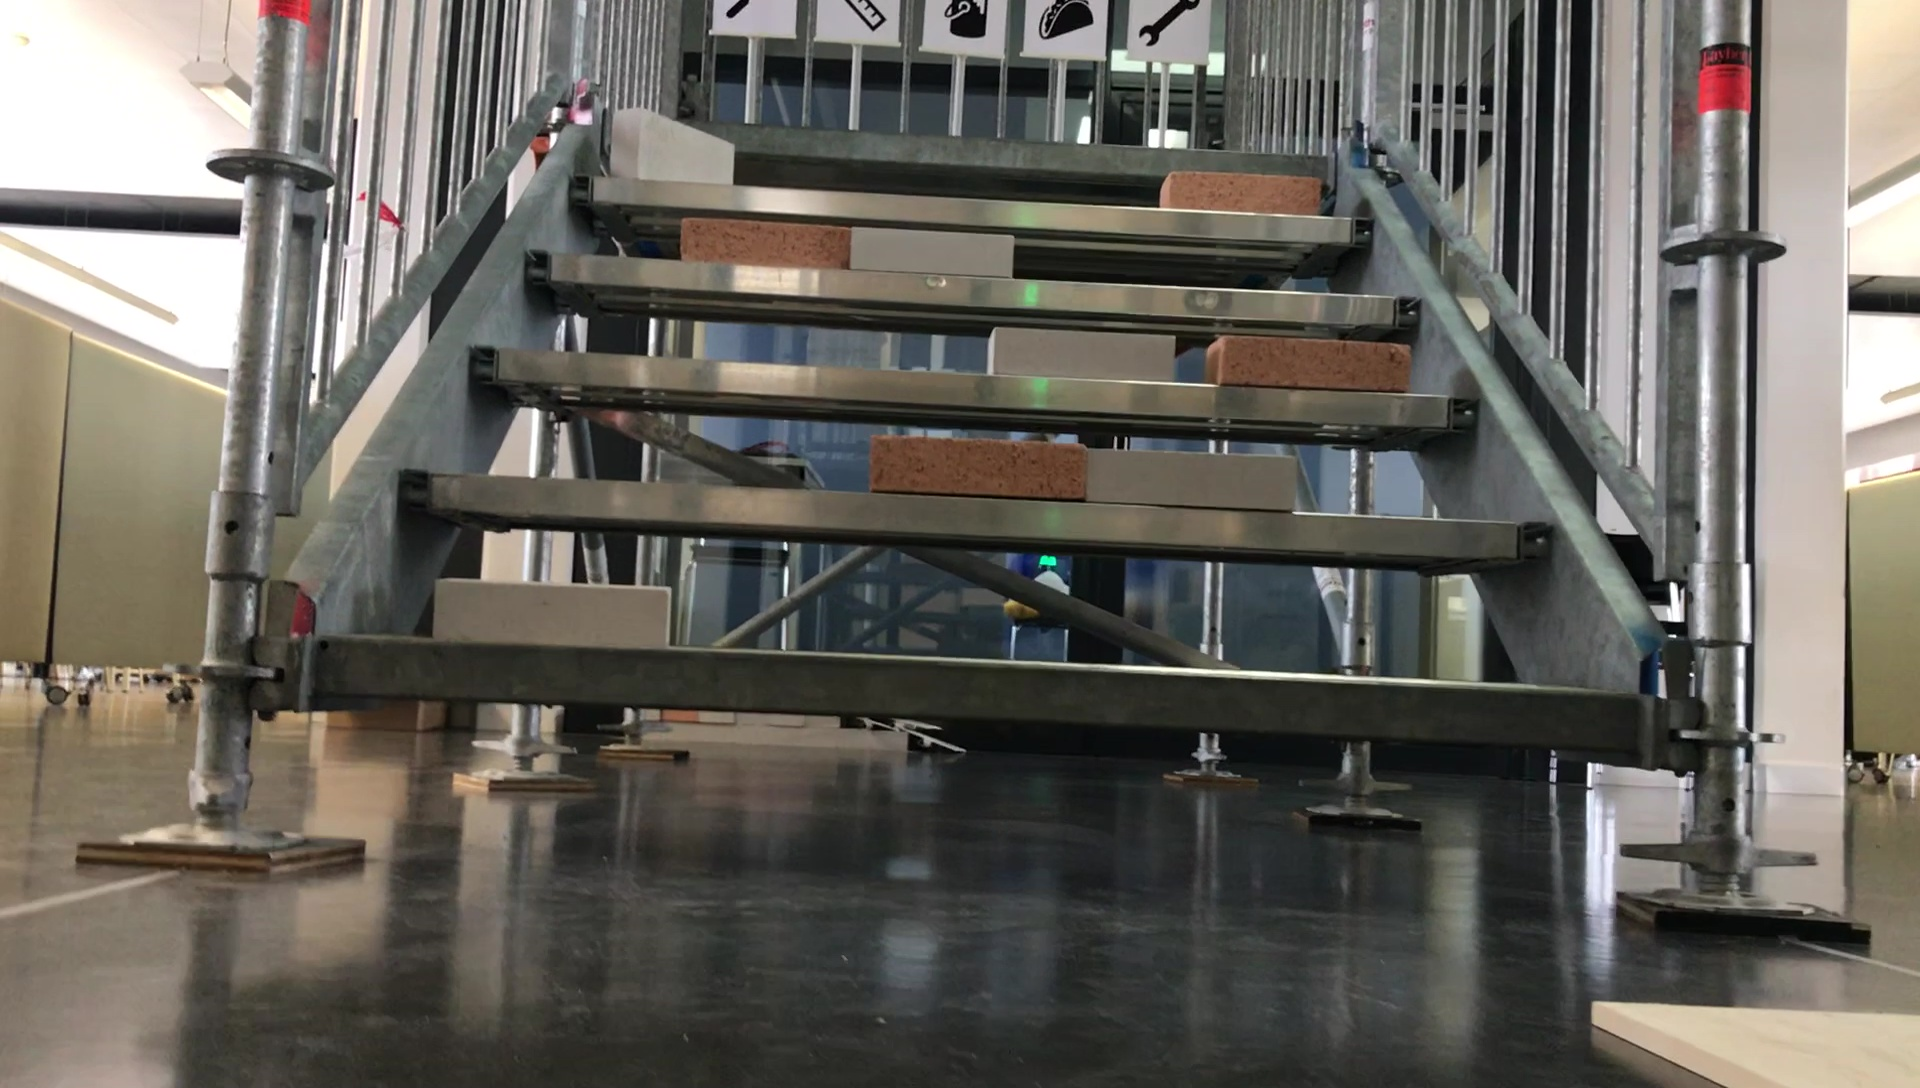brick: (433, 578, 669, 645), (872, 435, 1085, 497), (1095, 450, 1295, 510), (1208, 338, 1408, 390), (990, 330, 1174, 380), (611, 109, 731, 185), (680, 218, 849, 270), (855, 228, 1010, 276), (1159, 175, 1317, 212)
edge: (316, 642, 1639, 750), (392, 471, 1551, 560), (469, 346, 1481, 427), (525, 253, 1420, 327), (564, 175, 1371, 247)
stairs: (70, 9, 1873, 942)
steps: (309, 100, 1655, 790)
